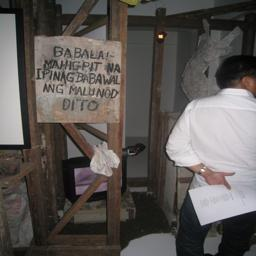no hat: (214, 37, 256, 108)
no vest: (188, 90, 256, 246)
